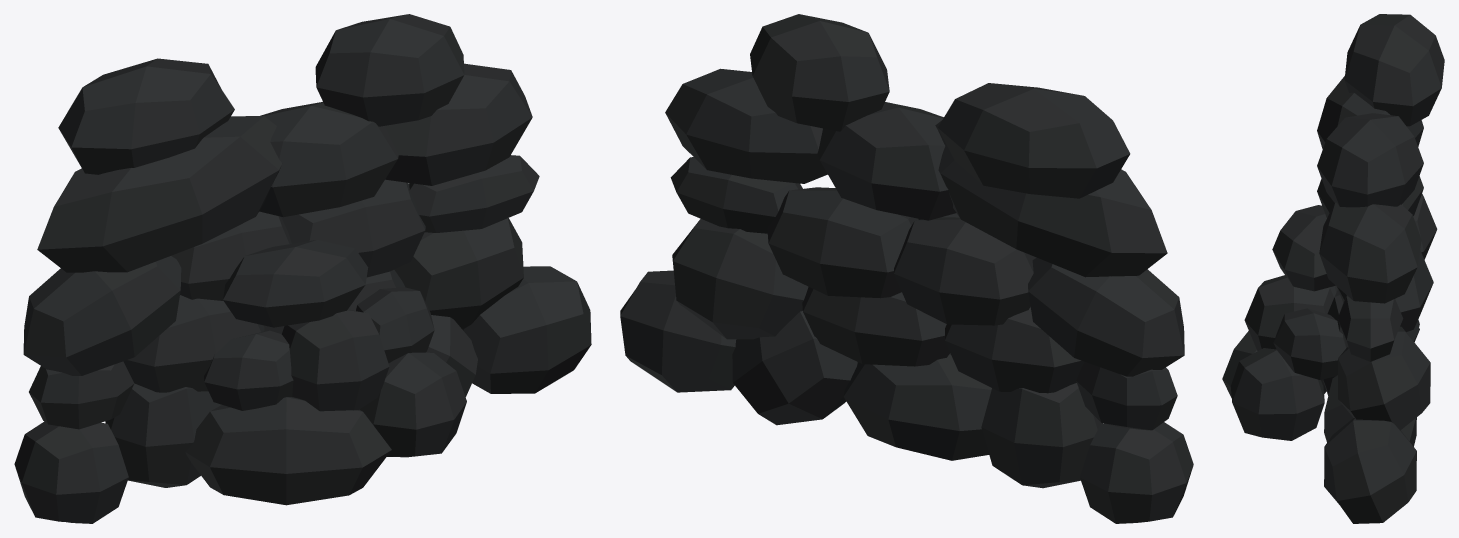
The model's file is Wall.fbx.
The picture shows the model from 3 angles, left to right: view 1: azimuth 30°, elevation 25°; view 2: azimuth 150°, elevation 25°; view 3: azimuth 270°, elevation 25°; orthographic projection. The views are drawn at different scales.
Visible parts, largest first — view 1: Cube.031; view 2: Cube.031; view 3: Cube.031.
Part boxes in pixels (box(x1,y1,x2,y2)): Cube.031: box(14, 14, 591, 523); Cube.031: box(620, 14, 1193, 523); Cube.031: box(1222, 14, 1444, 523).
Bounding box in the file's own units: 6.65 × 4.77 × 2.63.
